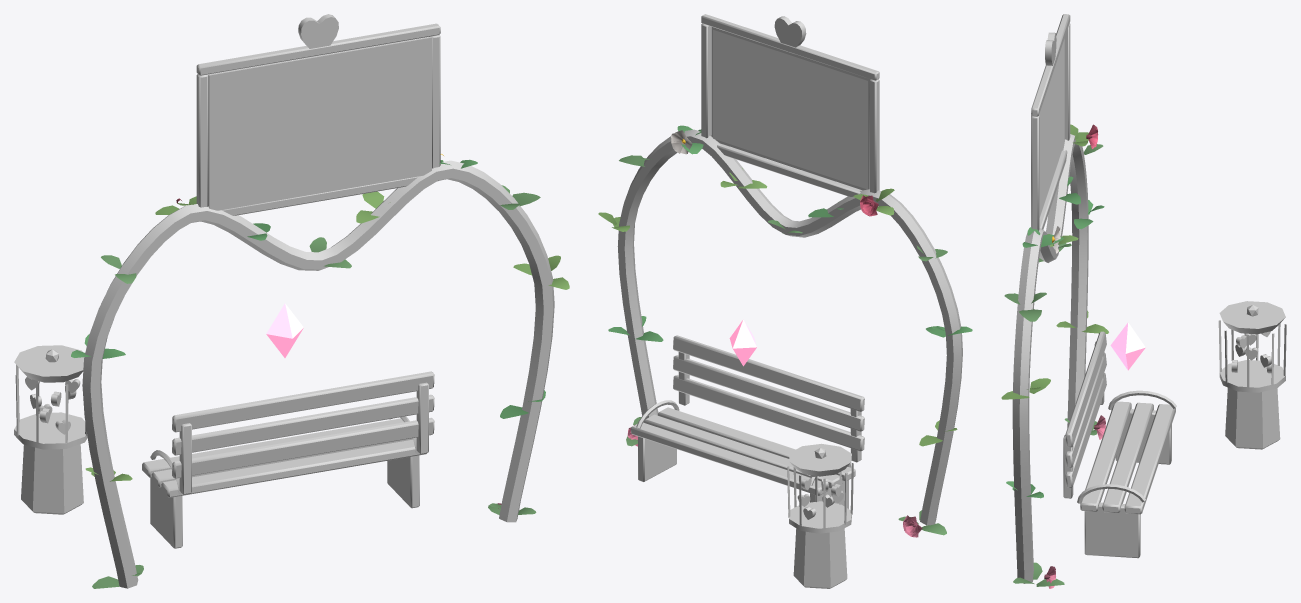
File: zon_diaryring_heart_lite.glb
The picture shows the model from 3 angles, left to right: view 1: azimuth 30°, elevation 25°; view 2: azimuth 150°, elevation 25°; view 3: azimuth 270°, elevation 25°; orthographic projection. The views are drawn at different scales.
Visible parts, largest first — view 1: SM_zon_diaryring_heart_lite_kit_diaryring_heart_xm1_z0, SM_zon_diaryring_heart_lite_vc_palette_xm1_z0, ANIM_bld_heart_lite_marker__0; view 2: SM_zon_diaryring_heart_lite_kit_diaryring_heart_xm1_z0, SCREEN_heart_heart__0, SM_zon_diaryring_heart_lite_vc_palette_xm1_z0, ANIM_bld_heart_lite_marker__0; view 3: SM_zon_diaryring_heart_lite_kit_diaryring_heart_xm1_z0, SM_zon_diaryring_heart_lite_vc_palette_xm1_z0, SCREEN_heart_heart__0, ANIM_bld_heart_lite_marker__0.
Boxes of the visible parts, <box> form: SM_zon_diaryring_heart_lite_kit_diaryring_heart_xm1_z0: <box>14,14,554,588</box>; SM_zon_diaryring_heart_lite_vc_palette_xm1_z0: <box>71,154,569,588</box>; ANIM_bld_heart_lite_marker__0: <box>266,303,303,357</box>; SM_zon_diaryring_heart_lite_kit_diaryring_heart_xm1_z0: <box>617,14,962,588</box>; SCREEN_heart_heart__0: <box>713,30,867,189</box>; SM_zon_diaryring_heart_lite_vc_palette_xm1_z0: <box>598,125,972,537</box>; ANIM_bld_heart_lite_marker__0: <box>729,319,756,366</box>; SM_zon_diaryring_heart_lite_kit_diaryring_heart_xm1_z0: <box>1012,14,1286,583</box>; SM_zon_diaryring_heart_lite_vc_palette_xm1_z0: <box>1001,124,1108,588</box>; SCREEN_heart_heart__0: <box>1039,39,1064,217</box>; ANIM_bld_heart_lite_marker__0: <box>1110,322,1145,370</box>.
Bounding box in the file's own units: 4.19 × 4.69 × 2.55.
